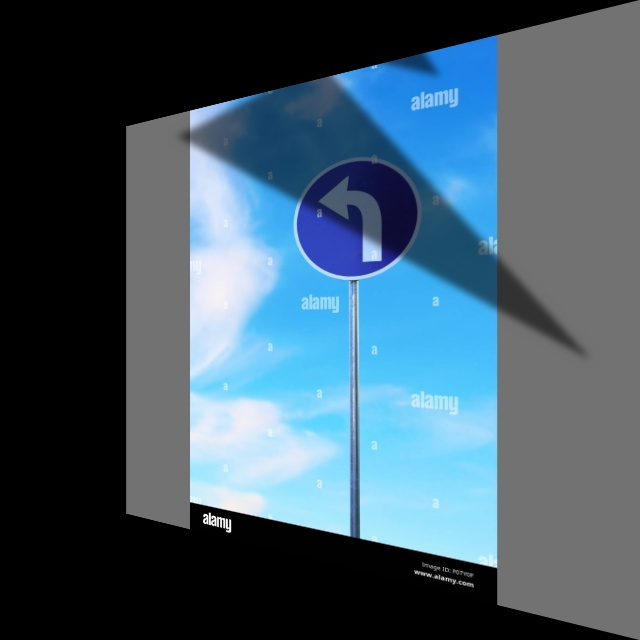Compulsory_Turn_Left_Ahead: (298, 146, 418, 285)
